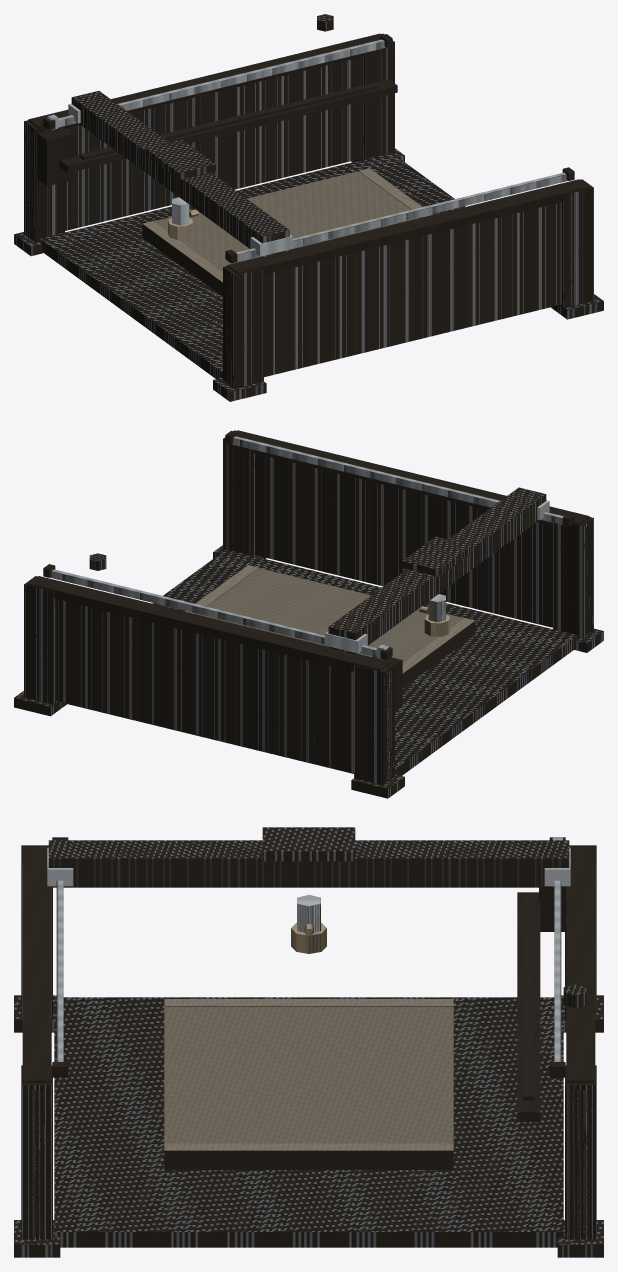
File: fabricator_lod2.glb
3 renders of one model, top to bottom at view 1: azimuth 30°, elevation 25°; view 2: azimuth 150°, elevation 25°; view 3: azimuth 270°, elevation 25°, orthographic. The views are drawn at different scales.
Parts seen in each view (by area): view 1: LOD2_fabricator, LOD2_Gantry; view 2: LOD2_fabricator, LOD2_Gantry; view 3: LOD2_fabricator, LOD2_Gantry.
Part boxes in pixels (bbox=[...]): LOD2_fabricator: bbox=[14, 33, 603, 401]; LOD2_Gantry: bbox=[68, 90, 292, 257]; LOD2_fabricator: bbox=[14, 430, 603, 798]; LOD2_Gantry: bbox=[325, 487, 549, 654]; LOD2_fabricator: bbox=[14, 837, 603, 1257]; LOD2_Gantry: bbox=[47, 827, 570, 953].
Bounding box in the file's own units: 2.04 × 0.835 × 2.04.
Materials: 1 (1 with a texture image).
